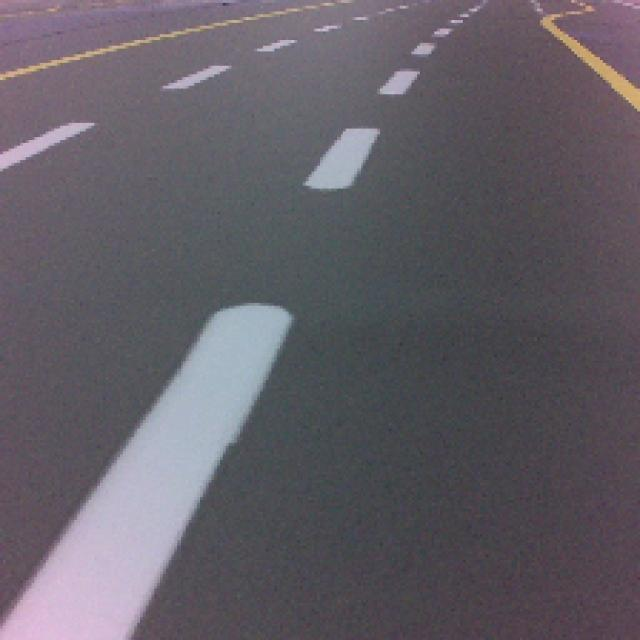Guard rail: (5, 302, 299, 638)
